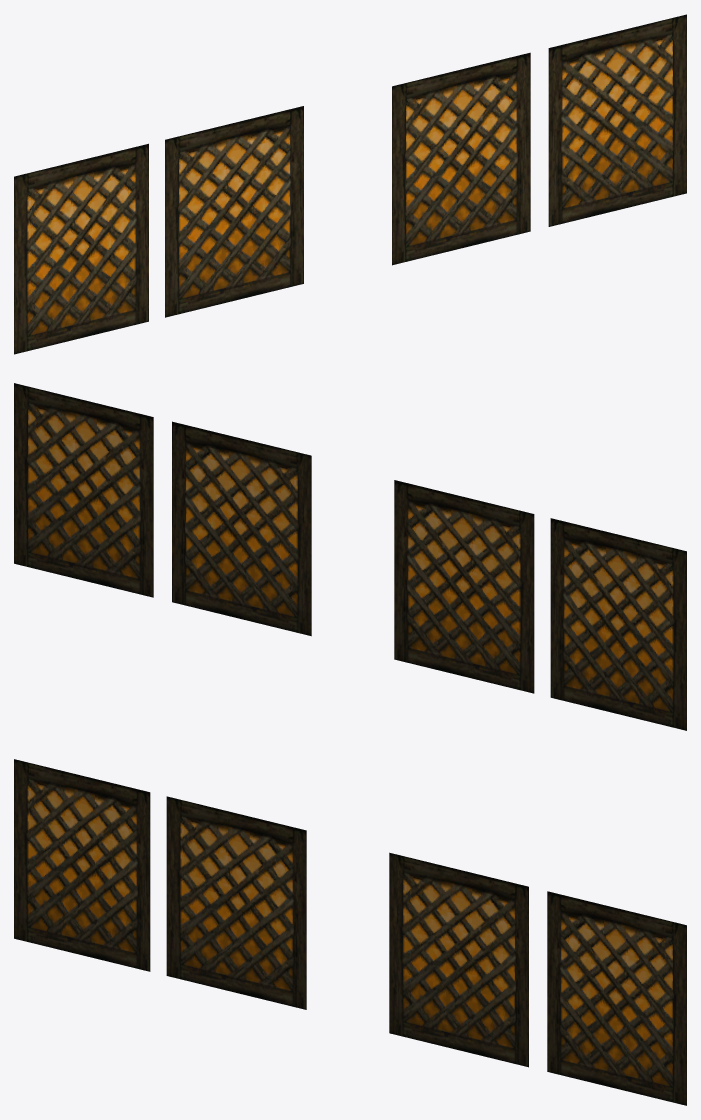
The model's file is LAKETOWN_EXTERIOR_PS_LT_ENT_WINDOWS4746.fbx.
The picture shows the model from 3 angles, top to bottom: view 1: azimuth 30°, elevation 25°; view 2: azimuth 150°, elevation 25°; view 3: azimuth 330°, elevation 25°; orthographic projection.
Visible parts, largest first — view 1: LAKETOWN_EXTERIOR_PS_LT_ENT_WINDOWS4746; view 2: LAKETOWN_EXTERIOR_PS_LT_ENT_WINDOWS4746; view 3: LAKETOWN_EXTERIOR_PS_LT_ENT_WINDOWS4746.
Part boxes in pixels (x1=…): LAKETOWN_EXTERIOR_PS_LT_ENT_WINDOWS4746: x1=14, y1=14, x2=686, y2=354; LAKETOWN_EXTERIOR_PS_LT_ENT_WINDOWS4746: x1=14, y1=383, x2=686, y2=730; LAKETOWN_EXTERIOR_PS_LT_ENT_WINDOWS4746: x1=14, y1=759, x2=686, y2=1105.
Size of the model in its own units: 51614 by 13176 by 415.
1 material, 1 textured.
